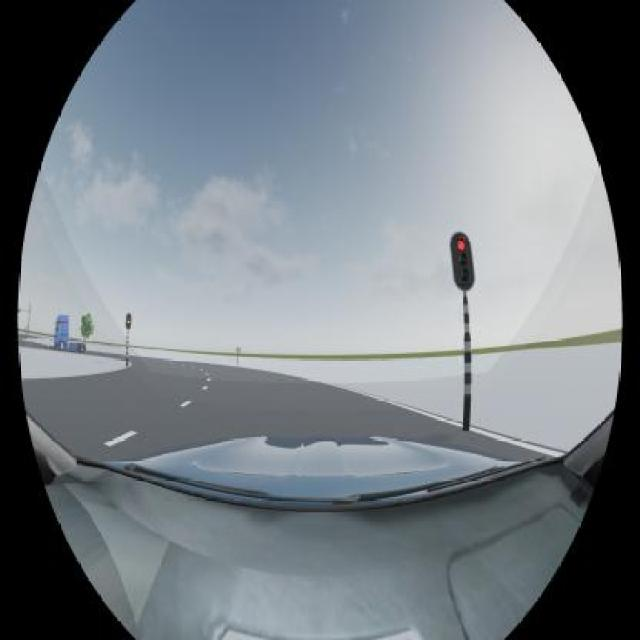forb_speed_over_80: (236, 348, 239, 352)
